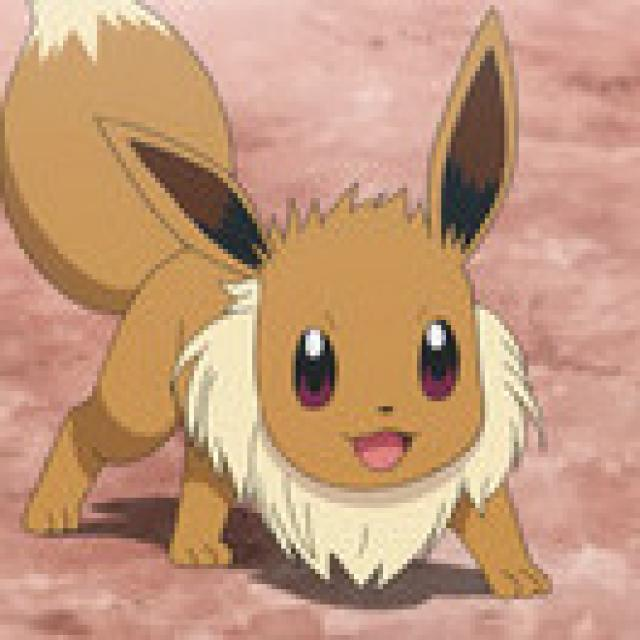Eevee: (108, 111, 517, 577)
